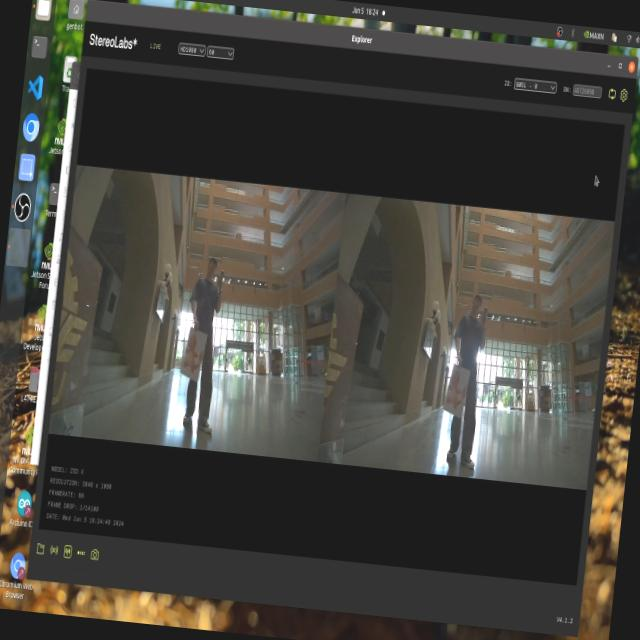red: (181, 330, 206, 382), (448, 371, 471, 416)
